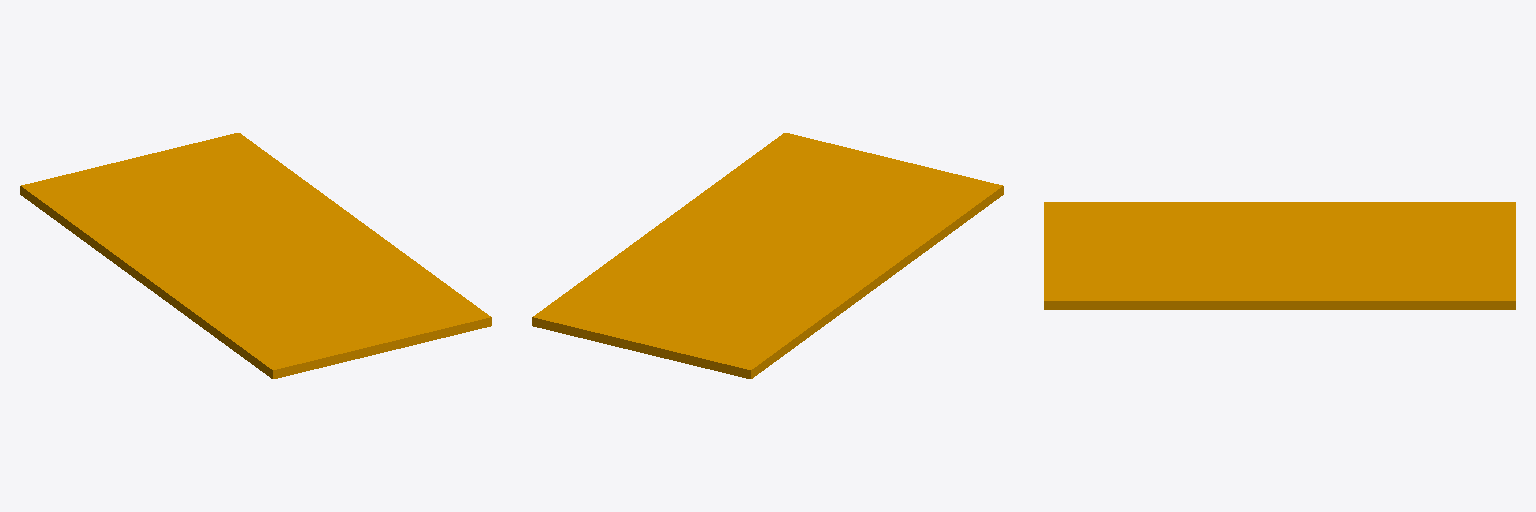
The robot description file, URDF, robot "flat_surface":
<?xml version="0.0" ?>
<robot name="flat_surface">
  <link  concave="no" name="surfaceLink">
  <contact>
      <lateral_friction value="1"/>
  </contact>
    <inertial>
      <origin rpy="0 0 0" xyz="0 0 0"/>
       <mass value=".0"/>
       <inertia ixx="0" ixy="0" ixz="0" iyy="0" iyz="0" izz="0"/>
    </inertial>
    <visual>
      <origin rpy="0 0 0" xyz="0 0 0"/>
      <geometry>
        <mesh filename="flatSurfaceLarge.obj" scale="1 1 1"/>
      </geometry>
        <!-- <material name="orange">
          <color rgba="1.0 0.423529411765 0.0392156862745 0.8"/>
        </material> -->
    </visual>
    <collision concave="no">
      <origin rpy="0 0 0" xyz="0 0 0"/>
      <geometry>
        <!-- <box size="200 200 10"/> -->
        <mesh filename="flatSurface.stl"/>
      </geometry>
    </collision>
  </link>
</robot>

--- What the picture shows (computed from the rendered views, not written in the file) ---
Views: 3 orthographic renders of the robot side by side, from view 1: azimuth 30°, elevation 25°; view 2: azimuth 150°, elevation 25°; view 3: azimuth 270°, elevation 25°.
Robot: flat_surface — 1 links, 0 joints (none); root link surfaceLink; default pose: every joint at zero.
Links seen in each view (by area): view 1: surfaceLink; view 2: surfaceLink; view 3: surfaceLink.
Boxes of the visible links, x1=… form: surfaceLink: x1=20, y1=133, x2=491, y2=378; surfaceLink: x1=532, y1=133, x2=1003, y2=378; surfaceLink: x1=1044, y1=202, x2=1515, y2=309.
Size in the robot's own frame: 1 by 2 by 0.04 metres.
Meshes: 1 distinct files referenced, 1 mesh visuals loaded (1 OBJ).